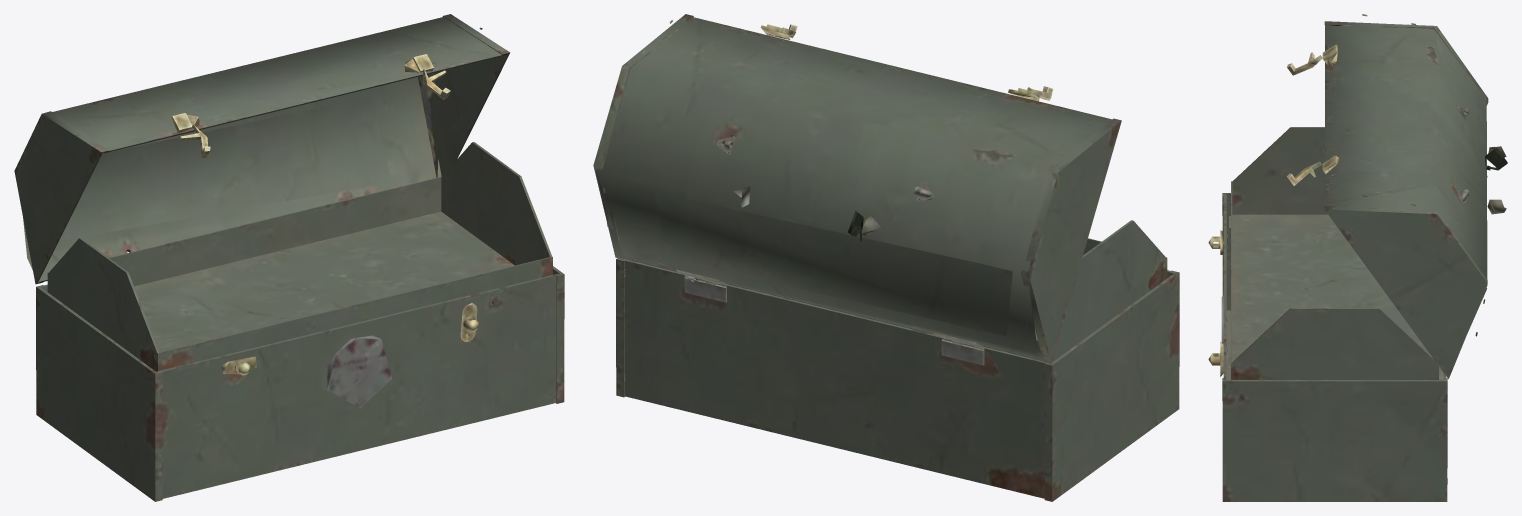
Rendered from metal_toolbox.glb.
3 views of the same model, side by side, from view 1: azimuth 30°, elevation 25°; view 2: azimuth 150°, elevation 25°; view 3: azimuth 270°, elevation 25° (orthographic). The views are drawn at different scales.
Visible parts, largest first — view 1: metal_toolbox; view 2: metal_toolbox; view 3: metal_toolbox.
Part boxes in pixels (box(x1,y1,x2,y2)): metal_toolbox: box(14, 14, 564, 501); metal_toolbox: box(593, 14, 1179, 501); metal_toolbox: box(1208, 14, 1507, 501).
Bounding box in the file's own units: 0.4 × 0.3018 × 0.2688.
Materials: 1 (1 with a texture image).
